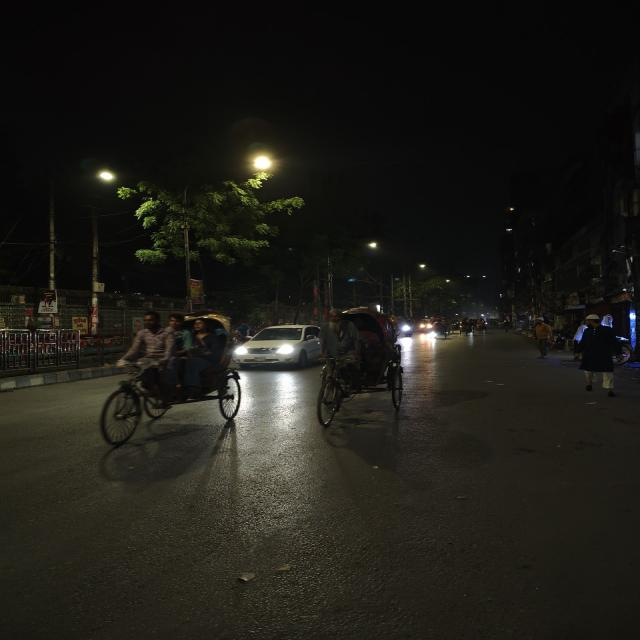car: (236, 322, 331, 370)
pedestrian: (570, 314, 630, 396), (530, 317, 555, 360), (500, 314, 515, 334)
rickshaw: (83, 306, 247, 453), (312, 304, 411, 430), (431, 317, 452, 341)
